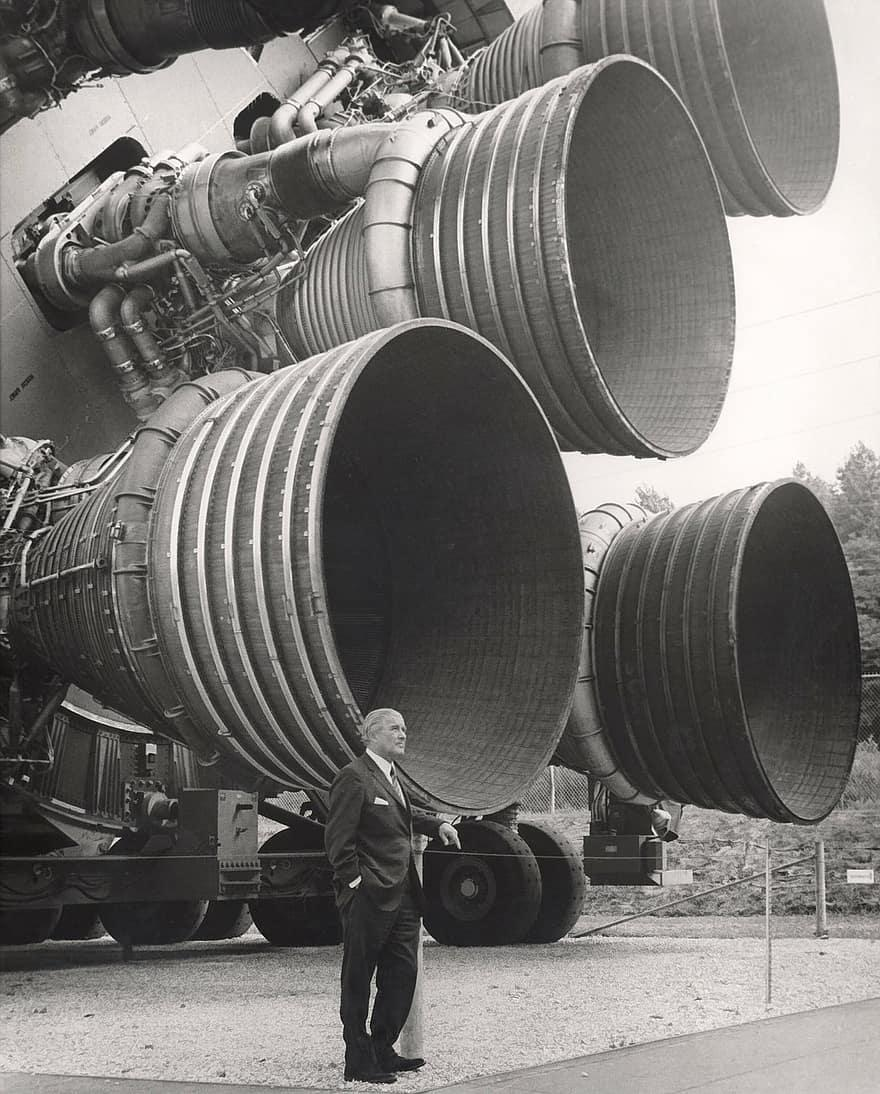thruster: (66, 313, 589, 822), (286, 50, 743, 463), (541, 475, 865, 828), (455, 0, 858, 220)
